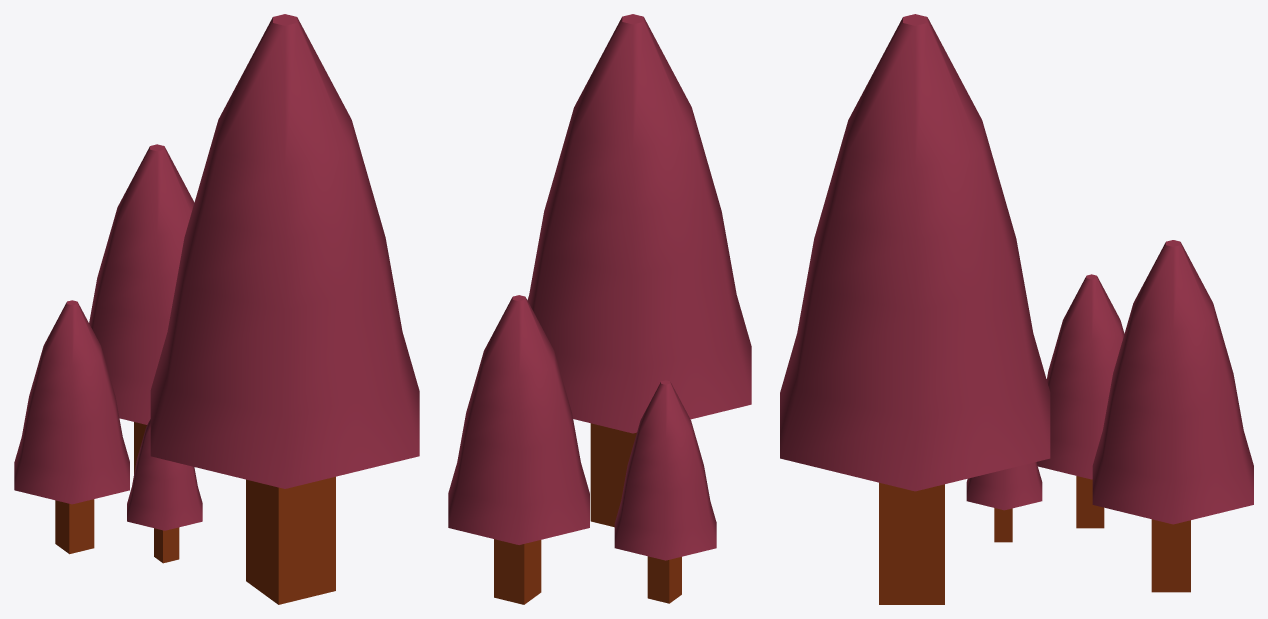
Rendered from Mushrooms.FBX.
3 views of the same model, side by side, from view 1: azimuth 30°, elevation 25°; view 2: azimuth 150°, elevation 25°; view 3: azimuth 270°, elevation 25° (orthographic). The views are drawn at different scales.
Visible parts, largest first — view 1: Cone002, Cone001, Cone003, Box002, Cone004, Box003, Box004; view 2: Cone002, Cone001, Cone003, Box002, Box001, Box003; view 3: Cone002, Cone001, Cone003, Box002, Box001, Cone004, Box003, Box004.
Part boxes in pixels (x1,y1,x2,y2): Cone002: (150, 14, 419, 488); Cone001: (89, 144, 194, 424); Cone003: (14, 300, 129, 504); Box002: (246, 476, 335, 604); Cone004: (127, 419, 202, 530); Box003: (55, 499, 94, 554); Box004: (154, 527, 179, 563); Cone002: (527, 14, 751, 433); Cone001: (448, 295, 589, 544); Cone003: (614, 380, 716, 560); Box002: (590, 423, 636, 527); Box001: (494, 539, 541, 604); Box003: (647, 556, 681, 603); Cone002: (780, 14, 1050, 491); Cone001: (1092, 240, 1253, 524); Cone003: (1037, 274, 1124, 479); Box002: (879, 482, 944, 604); Box001: (1151, 519, 1190, 592); Cone004: (966, 462, 1042, 510); Box003: (1076, 476, 1104, 528); Box004: (994, 508, 1012, 542).
Size of the model in its own units: 70.55 by 90.79 by 120.
